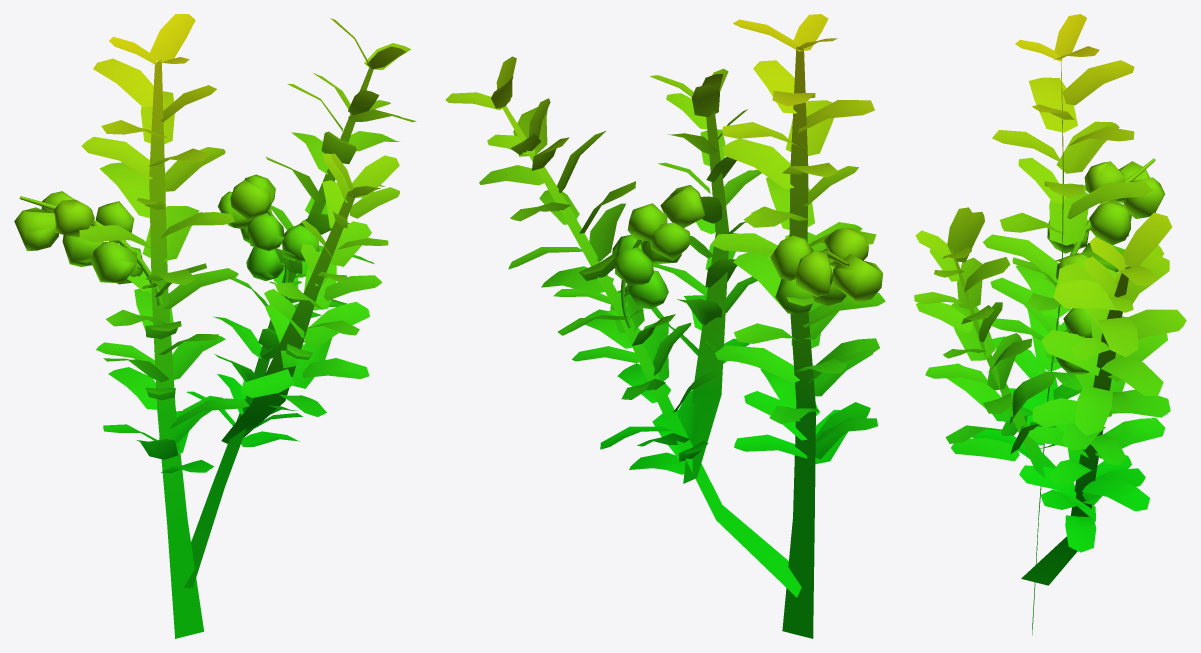
The model's file is Lingonberry_LOD2_Var9_wjhjahlqx.fbx.
The picture shows the model from 3 angles, left to right: view 1: azimuth 30°, elevation 25°; view 2: azimuth 150°, elevation 25°; view 3: azimuth 270°, elevation 25°; orthographic projection. The views are drawn at different scales.
Visible parts, largest first — view 1: _lxn9_Var9_LOD2; view 2: _lxn9_Var9_LOD2; view 3: _lxn9_Var9_LOD2.
Boxes of the visible parts, <box> form: _lxn9_Var9_LOD2: <box>14,14,416,638</box>; _lxn9_Var9_LOD2: <box>445,14,885,638</box>; _lxn9_Var9_LOD2: <box>914,14,1186,635</box>.
Size of the model in its own units: 11.47 by 16.38 by 6.84.
